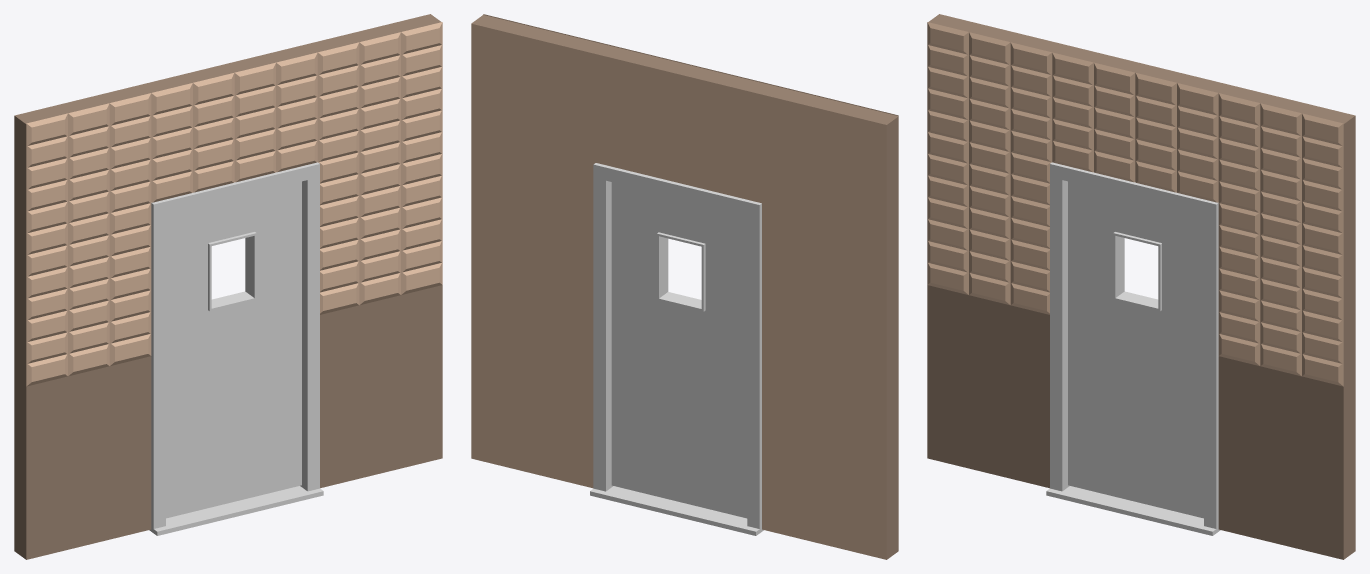
File: Wall3.fbx
3 views of the same model, side by side, from view 1: azimuth 30°, elevation 25°; view 2: azimuth 150°, elevation 25°; view 3: azimuth 330°, elevation 25° (orthographic).
Parts seen in each view (by area): view 1: Wall_w_door, Door; view 2: Wall_w_door, Door; view 3: Wall_w_door, Door.
Boxes of the visible parts, x1=… form: Wall_w_door: x1=14, y1=14, x2=442, y2=559; Door: x1=166, y1=181, x2=301, y2=518; Wall_w_door: x1=471, y1=14, x2=898, y2=559; Door: x1=611, y1=182, x2=747, y2=518; Wall_w_door: x1=927, y1=14, x2=1355, y2=559; Door: x1=1068, y1=181, x2=1203, y2=518.
Bounding box in the file's own units: 200 × 201 × 20.
